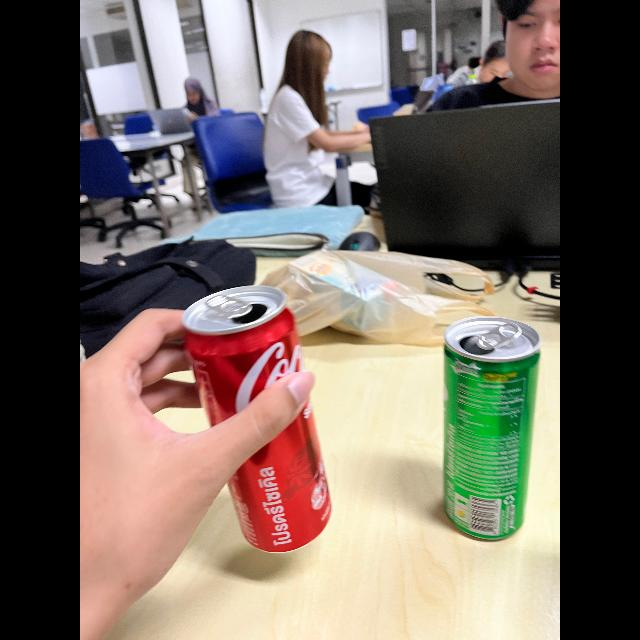can: (180, 278, 350, 564), (434, 300, 536, 546)
